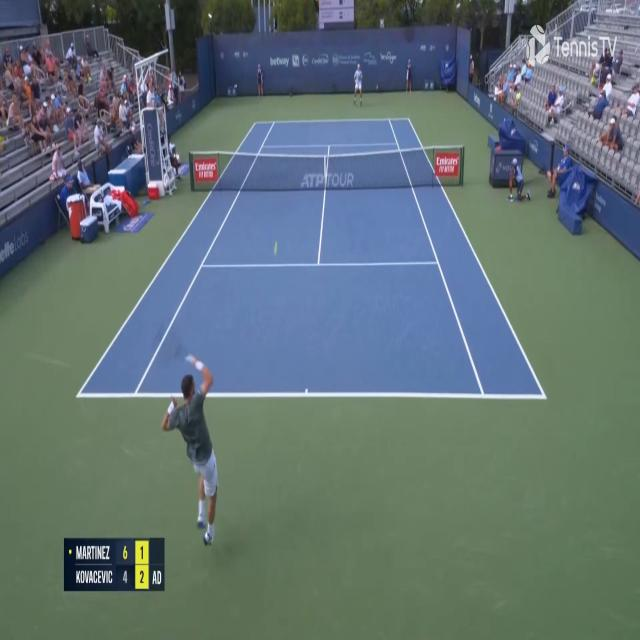tennis-player: (160, 350, 222, 547), (352, 61, 364, 107)
